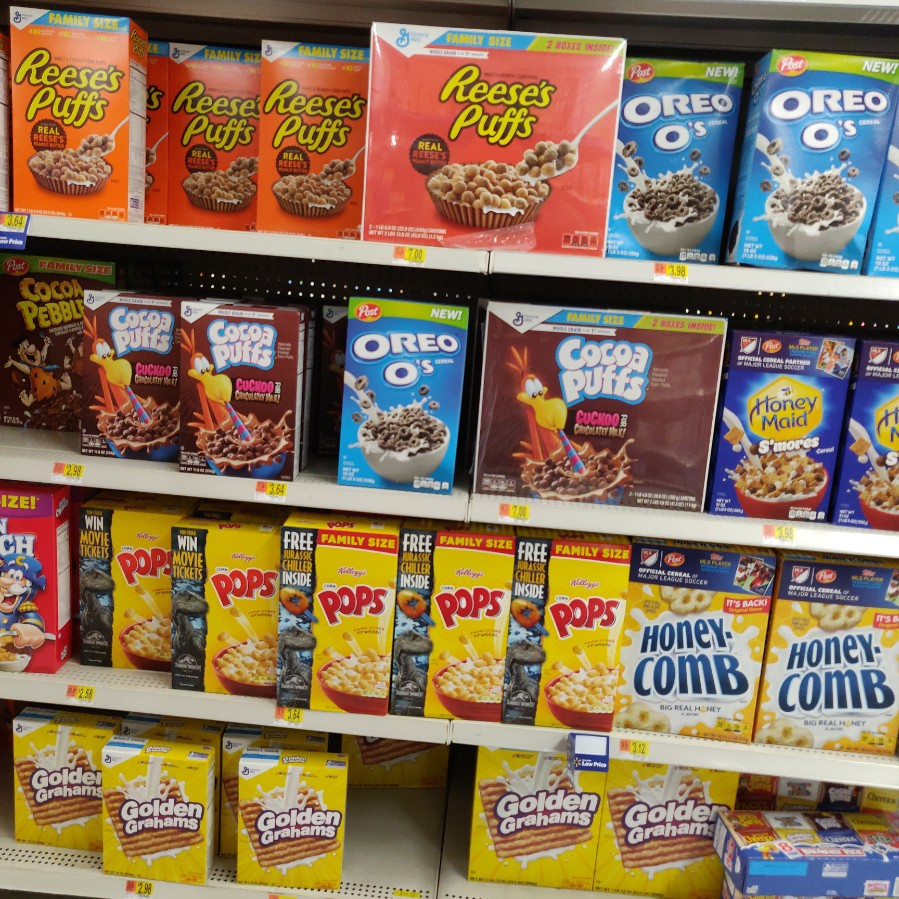Honey Comb- 009288857: (625, 541, 771, 748), (775, 554, 899, 767)
Oreo-563424384: (756, 47, 896, 285), (616, 51, 735, 266), (337, 293, 461, 495)
